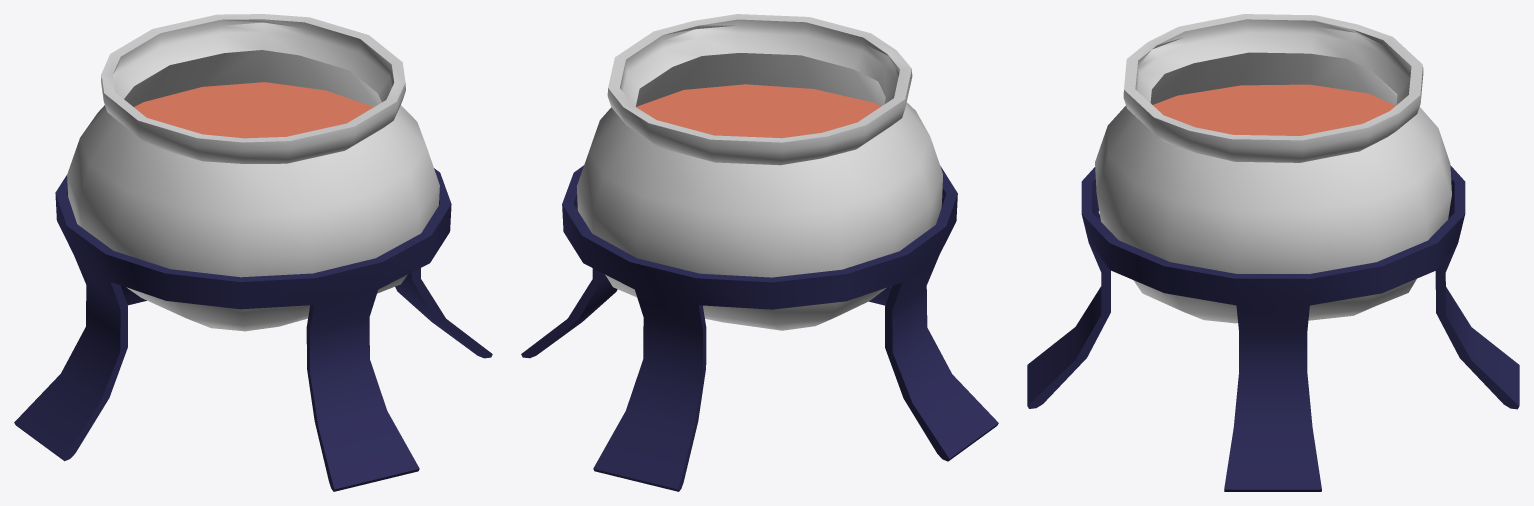
File: soupPot.fbx
The picture shows the model from 3 angles, left to right: view 1: azimuth 30°, elevation 25°; view 2: azimuth 150°, elevation 25°; view 3: azimuth 270°, elevation 25°; orthographic projection.
Parts seen in each view (by area): view 1: pot; view 2: pot; view 3: pot.
Part boxes in pixels (x1,y1,x2,y2): pot: [14, 14, 492, 491]; pot: [521, 14, 998, 491]; pot: [1027, 14, 1519, 491].
Bounding box in the file's own units: 3.47 × 2.42 × 3.47.
